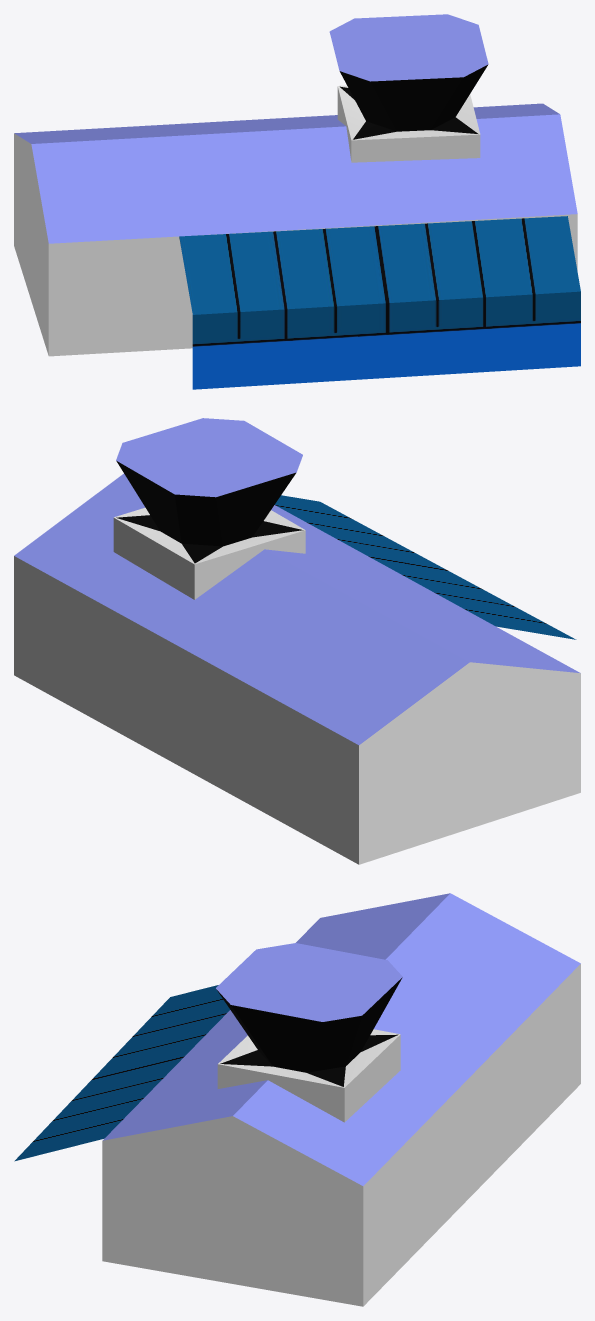
The model's file is BIUairport.glb.
3 renders of one model, top to bottom at view 1: azimuth 30°, elevation 25°; view 2: azimuth 150°, elevation 25°; view 3: azimuth 270°, elevation 25°, orthographic. The views are drawn at different scales.
Parts seen in each view (by area): view 1: Buffer Object 4, Buffer Object 5, Buffer Object 3, Buffer Object 7, Merged Objects 1, Buffer Object 6; view 2: Buffer Object 3, Buffer Object 5, Buffer Object 7, Merged Objects 1, Buffer Object 4, Buffer Object 6; view 3: Buffer Object 3, Buffer Object 5, Buffer Object 4, Buffer Object 7, Merged Objects 1, Buffer Object 6.
Part boxes in pixels (x1,y1,x2,y2): Buffer Object 4: (179, 216, 580, 389); Buffer Object 5: (14, 103, 577, 243); Buffer Object 3: (14, 133, 577, 356); Buffer Object 7: (329, 14, 488, 81); Merged Objects 1: (339, 65, 487, 139); Buffer Object 6: (337, 85, 480, 162); Buffer Object 3: (14, 556, 580, 864); Buffer Object 5: (14, 473, 580, 744); Buffer Object 7: (116, 418, 302, 497); Merged Objects 1: (116, 461, 303, 563); Buffer Object 4: (275, 495, 576, 639); Buffer Object 6: (113, 507, 305, 599); Buffer Object 3: (102, 964, 580, 1306); Buffer Object 5: (103, 893, 580, 1185); Buffer Object 4: (14, 985, 230, 1161); Buffer Object 7: (216, 943, 402, 1021); Merged Objects 1: (216, 977, 402, 1086); Buffer Object 6: (217, 1029, 400, 1122).
Bounding box in the file's own units: 20.75 × 8.69 × 18.52.
5 materials, 1 textured.
